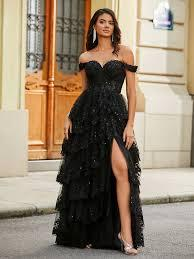dress: (44, 48, 151, 258)
